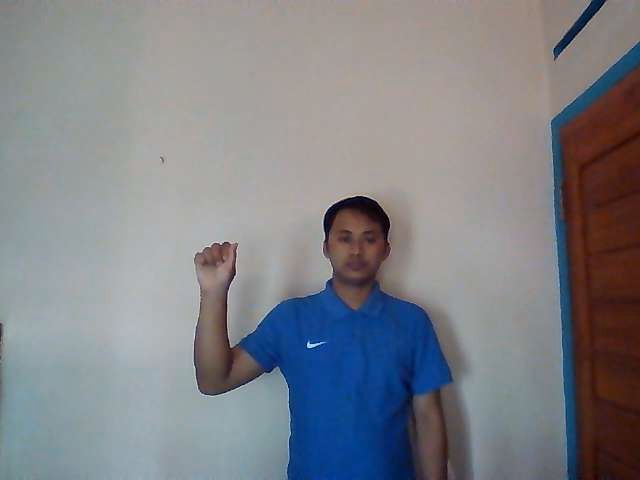A: (192, 241, 240, 288)
